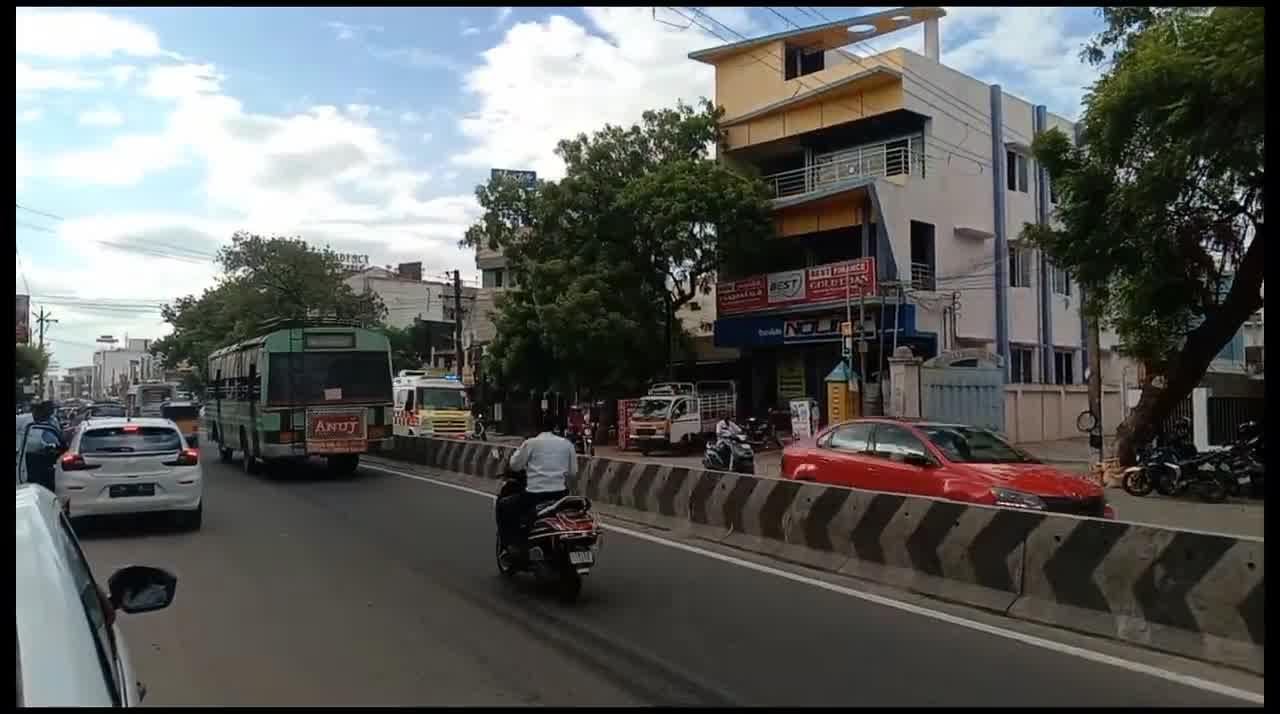AMBULANCE: (399, 374, 483, 443)
